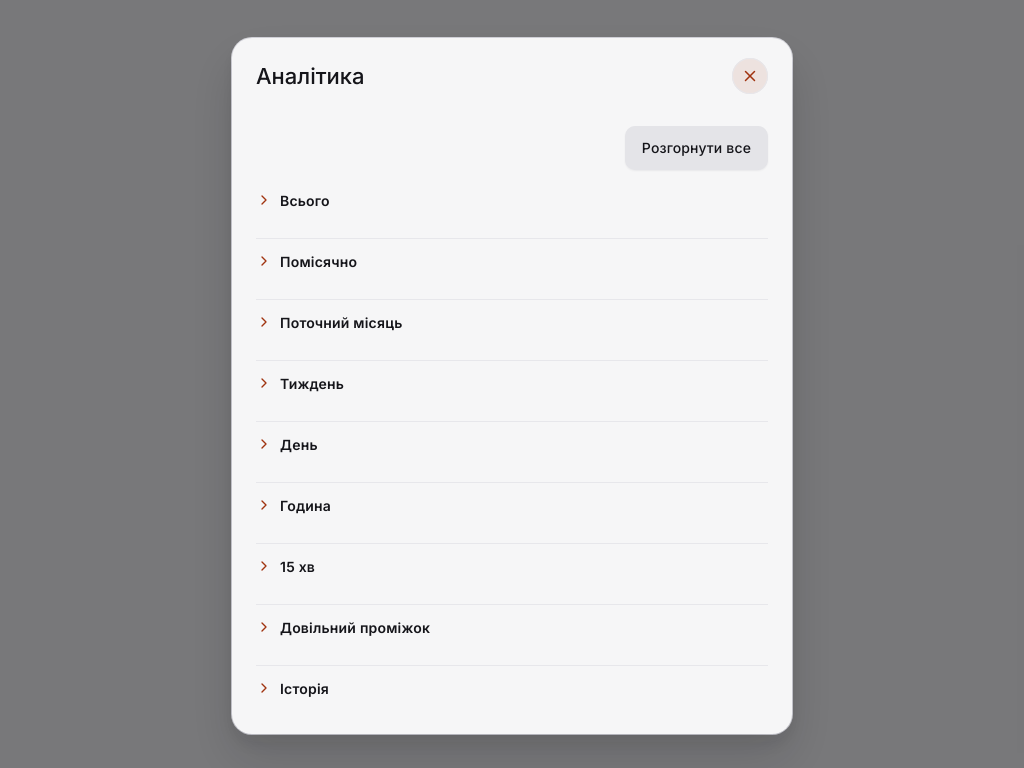
Scenario: акордеони періодів › повторний дотик закриває панель
Click the button "День" at (299, 444), box [256,422,768,466]
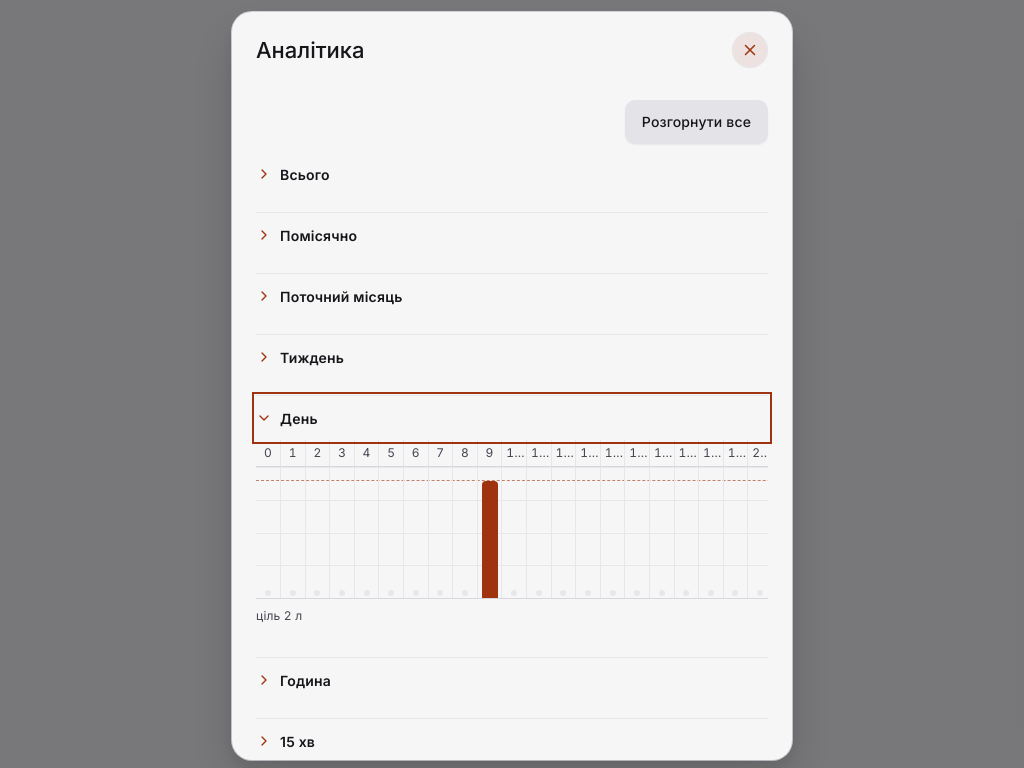
Expected: the number of pictures with class "wb-tp-plot" is 1, [256,467,768,599]
Click the button "День" at (299, 418), box [256,396,768,440]
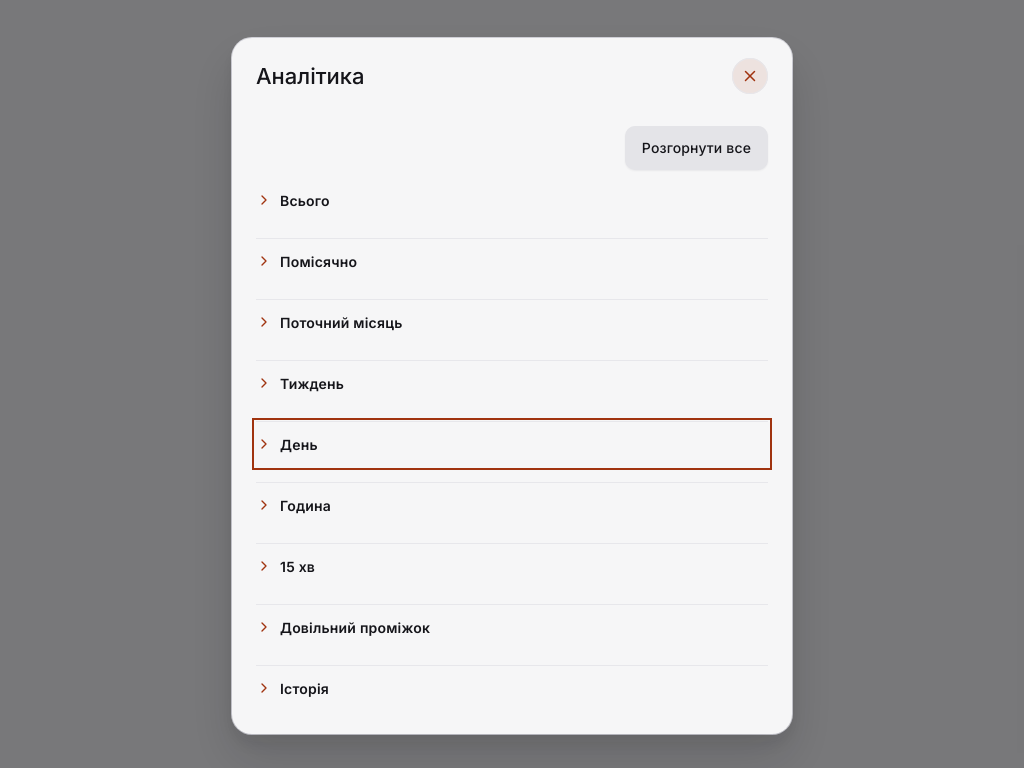
Expected: no pictures with class "wb-tp-plot" are shown
